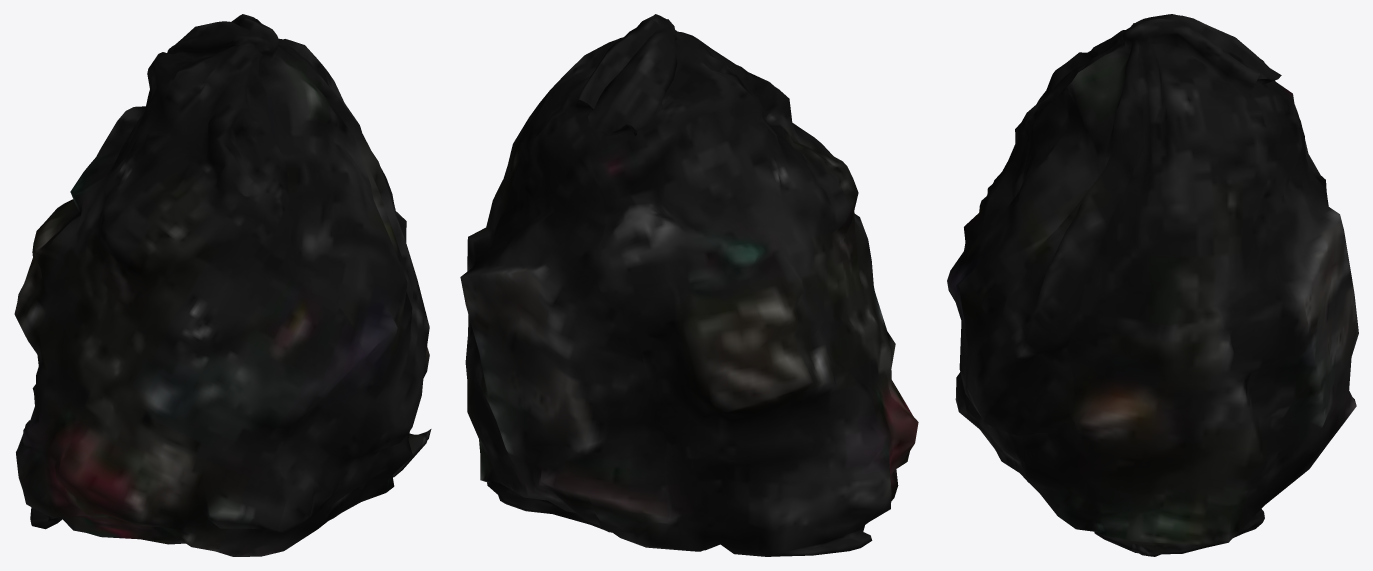
Rendered from p_trashbag.glb.
3 views of the same model, side by side, from view 1: azimuth 30°, elevation 25°; view 2: azimuth 150°, elevation 25°; view 3: azimuth 270°, elevation 25° (orthographic). The views are drawn at different scales.
Parts seen in each view (by area): view 1: trashbag; view 2: trashbag; view 3: trashbag.
Boxes of the visible parts, x1=… form: trashbag: x1=14, y1=14, x2=431, y2=556; trashbag: x1=460, y1=14, x2=918, y2=556; trashbag: x1=947, y1=14, x2=1358, y2=556.
Bounding box in the file's own units: 0.528 × 0.575 × 0.4629.
Materials: 1 (1 with a texture image).
